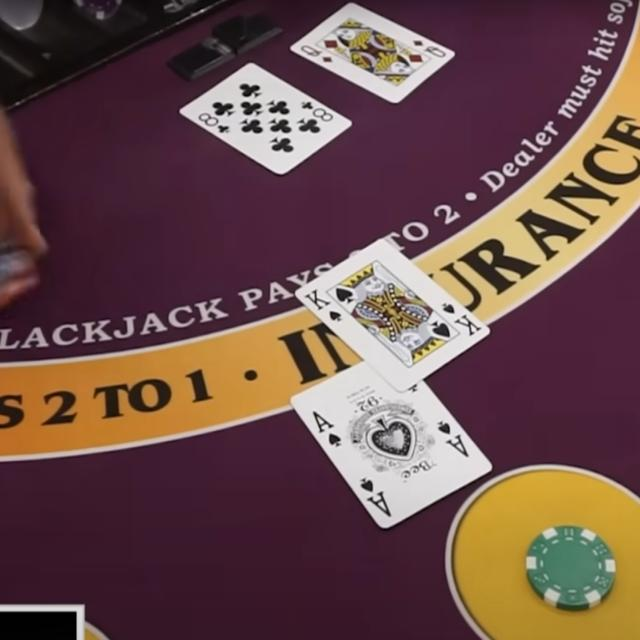8: (196, 110, 220, 129)
A: (309, 406, 335, 434)
K: (303, 286, 332, 312)
Q: (298, 40, 324, 60)
